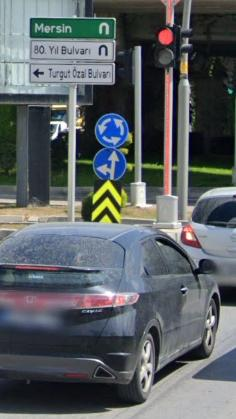crossroads: (94, 114, 129, 147)
redlight: (154, 19, 183, 72)
